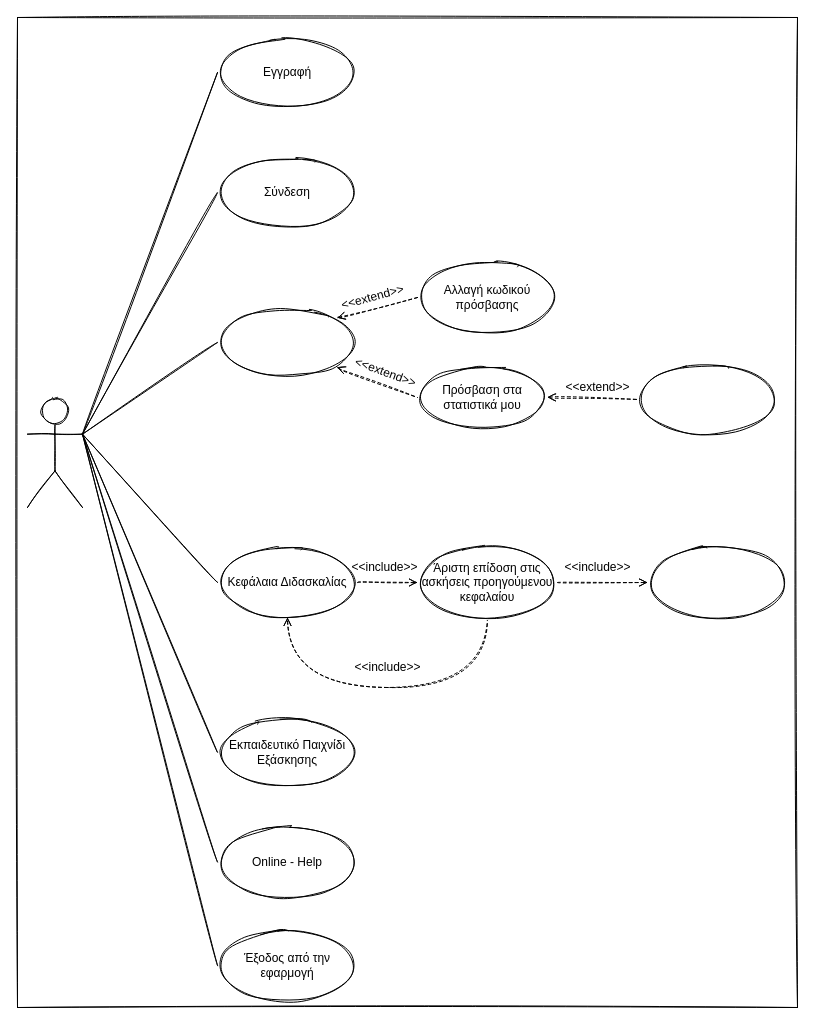
Some shapes in this 815 by 1025 pixel diagram are drawn without their labels. Each missing label, with the centre of its shape:
"Αναλυτική επεξήγηση λαθών ανά κεφάλαιο" goes at (707,399).
"Επαναληπτική/Τελική Εξέταση" goes at (717,582).
"Μαθητής" goes at (54,452).
"Προφίλ" goes at (287,342).
